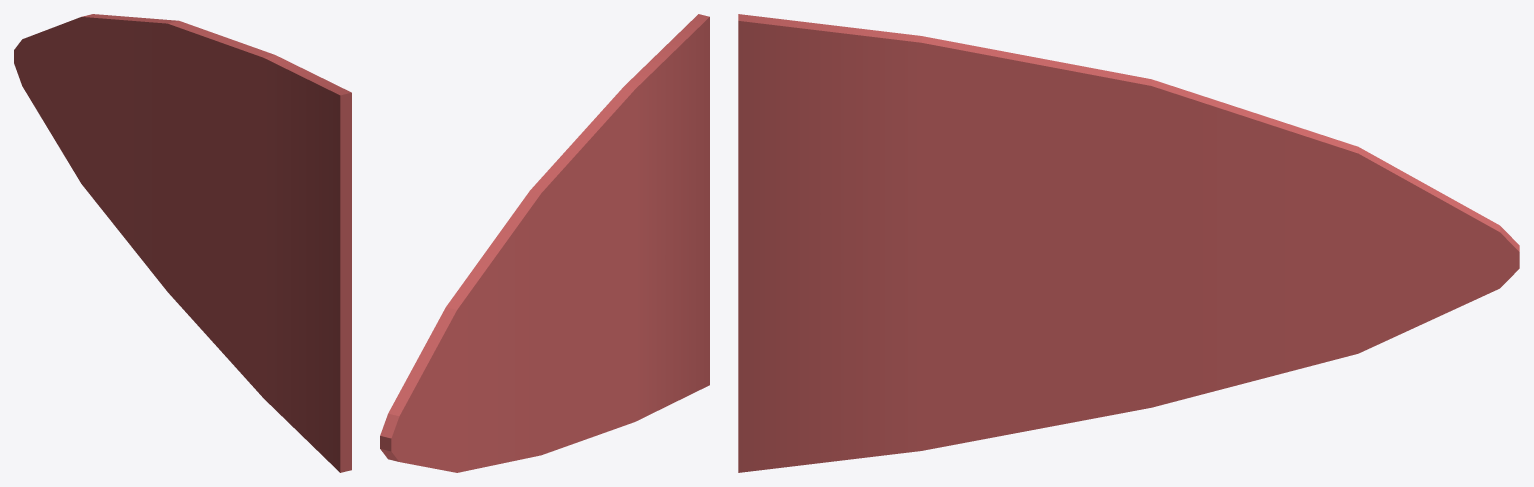
Rendered from MigratorFlagB.glb.
The picture shows the model from 3 angles, left to right: view 1: azimuth 30°, elevation 25°; view 2: azimuth 150°, elevation 25°; view 3: azimuth 270°, elevation 25°; orthographic projection. The views are drawn at different scales.
Parts seen in each view (by area): view 1: MigratorFlagB; view 2: MigratorFlagB; view 3: MigratorFlagB.
Boxes of the visible parts, bbox=[...] form: MigratorFlagB: bbox=[14, 14, 351, 472]; MigratorFlagB: bbox=[380, 14, 709, 472]; MigratorFlagB: bbox=[738, 14, 1519, 472].
Size of the model in its own units: 0.00996 by 0.3092 by 0.4843.
